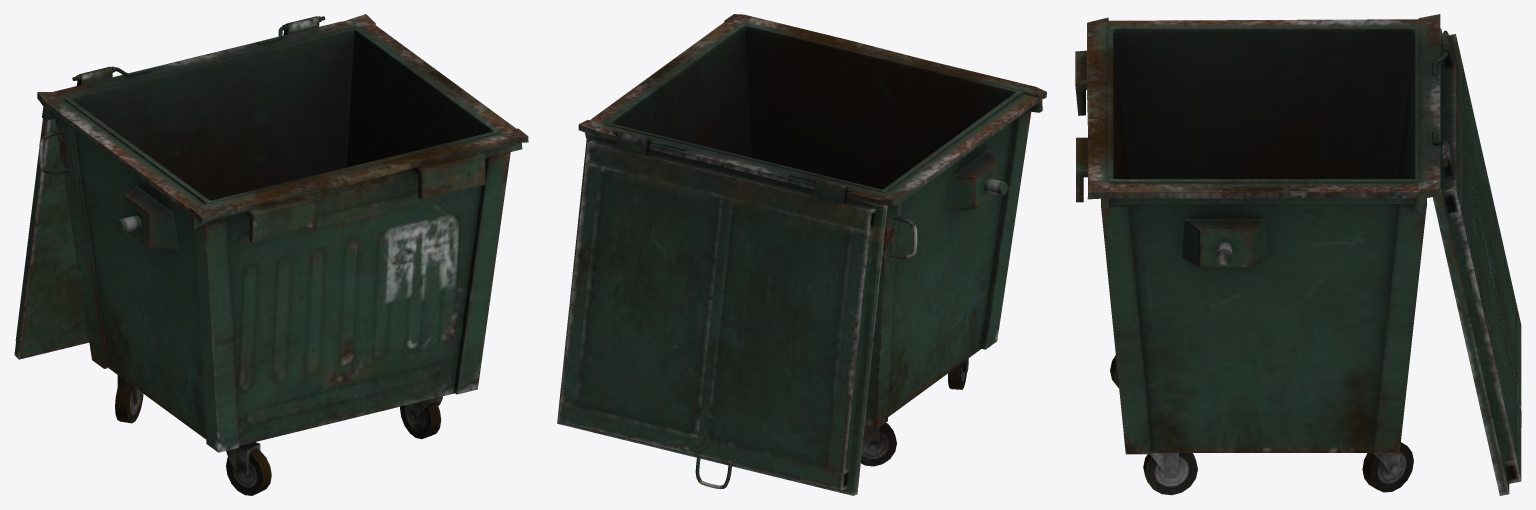
The model's file is trashcan.glb.
3 views of the same model, side by side, from view 1: azimuth 30°, elevation 25°; view 2: azimuth 150°, elevation 25°; view 3: azimuth 270°, elevation 25° (orthographic). The views are drawn at different scales.
Parts seen in each view (by area): view 1: TrashCan; view 2: TrashCan; view 3: TrashCan.
Boxes of the visible parts, x1=… form: TrashCan: x1=14, y1=14, x2=528, y2=495; TrashCan: x1=557, y1=14, x2=1046, y2=495; TrashCan: x1=1075, y1=14, x2=1521, y2=495.
Bounding box in the file's own units: 1.51 × 1.28 × 1.49.
1 material, 1 textured.
